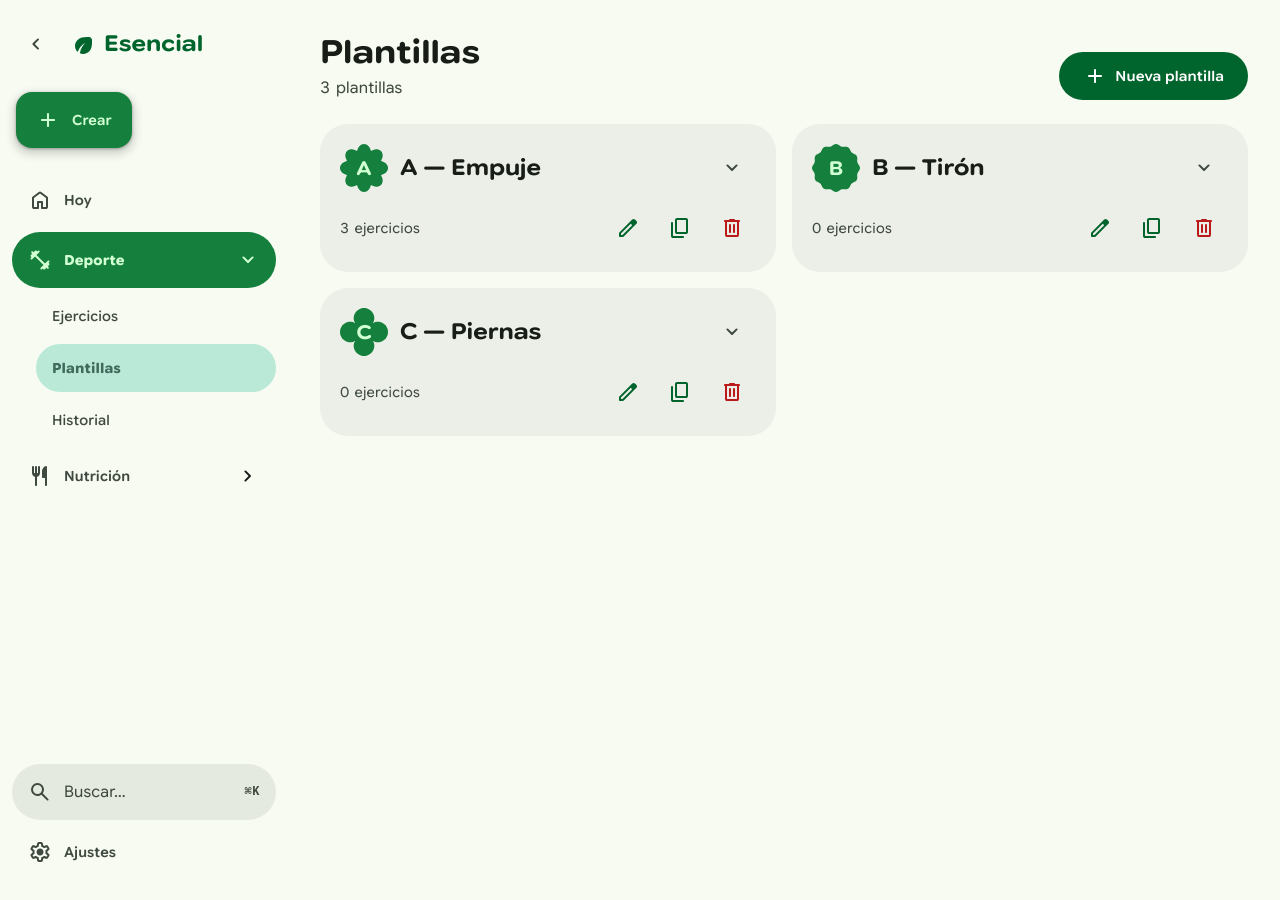
Test: template editor › duplicate: POST with source entries and (copia) name
Expected: the text "B — Tirón" is shown, left=872, top=154, right=984, bottom=181
Click the 1st button named "Duplicar": x=680, y=228 left=656, top=204, right=704, bottom=252
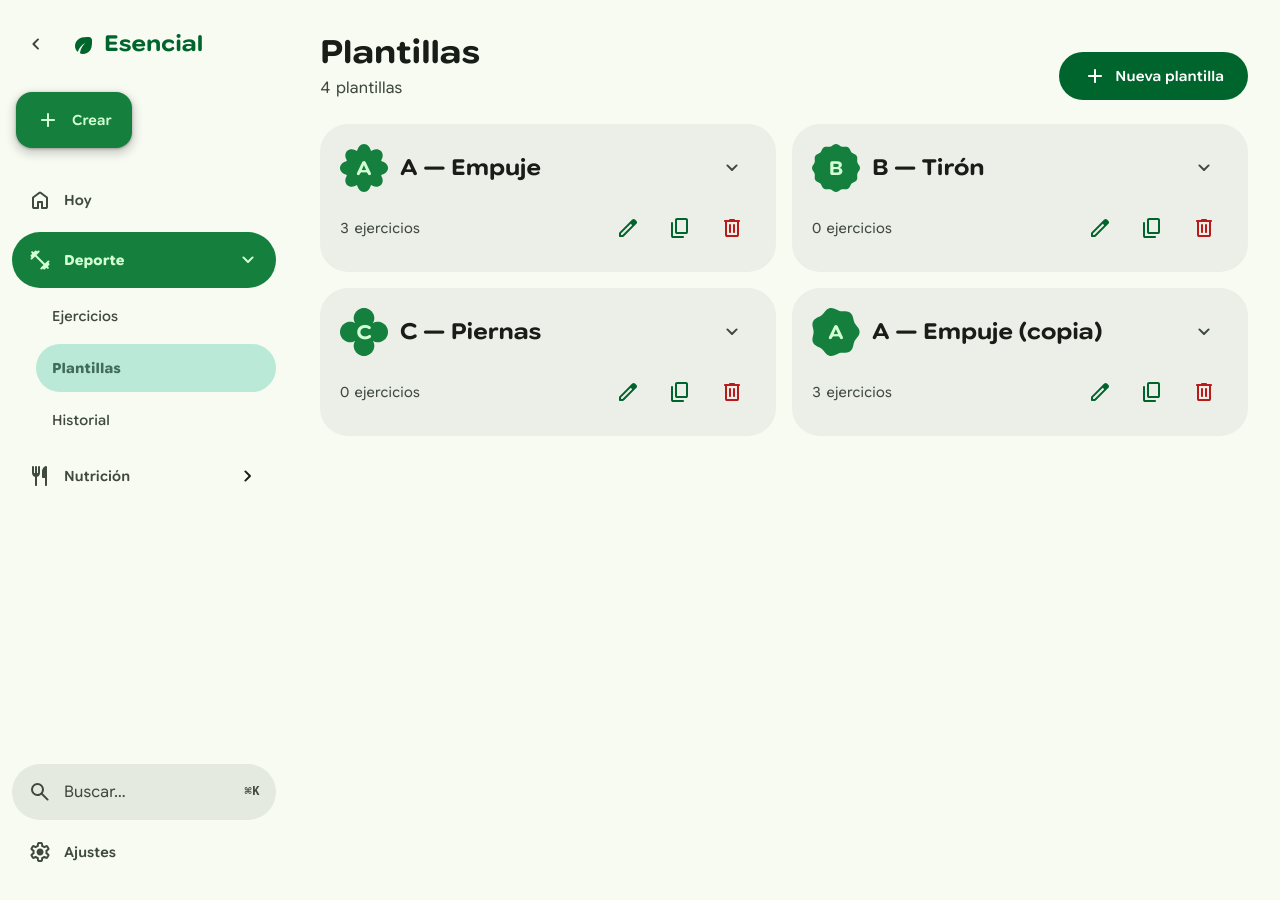
Result: the text "A — Empuje (copia)" is shown at left=872, top=318, right=1103, bottom=345
